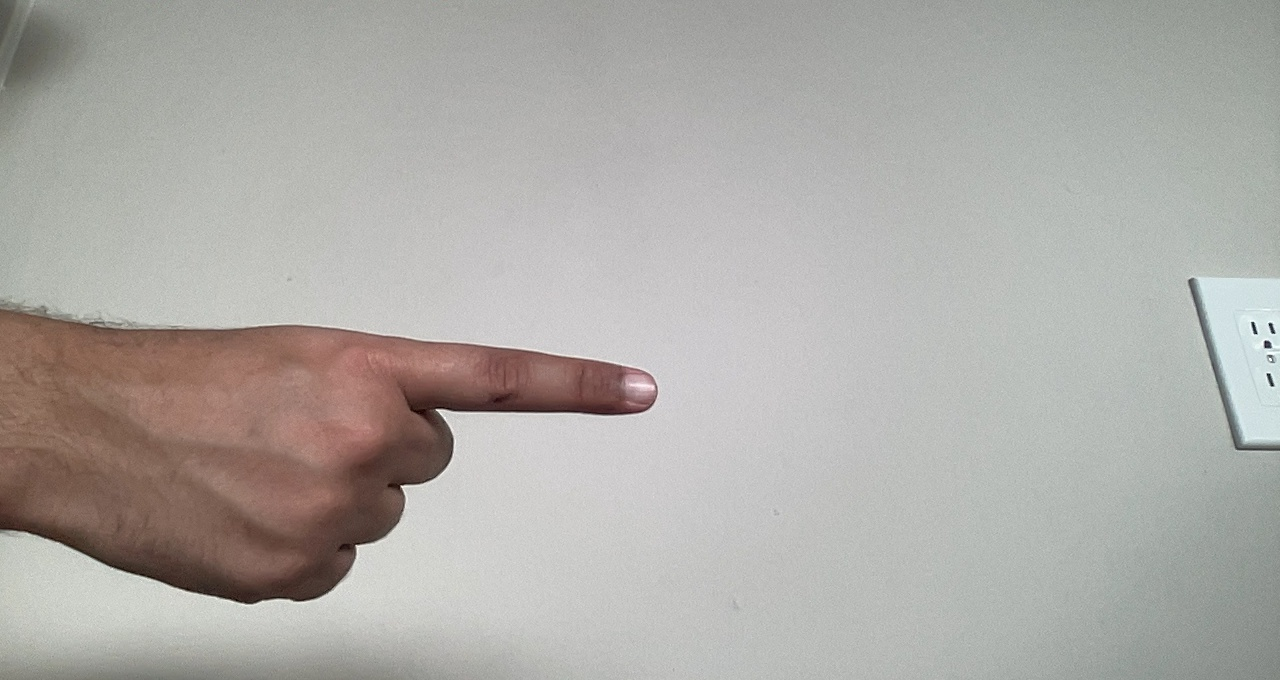fingerleft: (125, 316, 664, 612)
